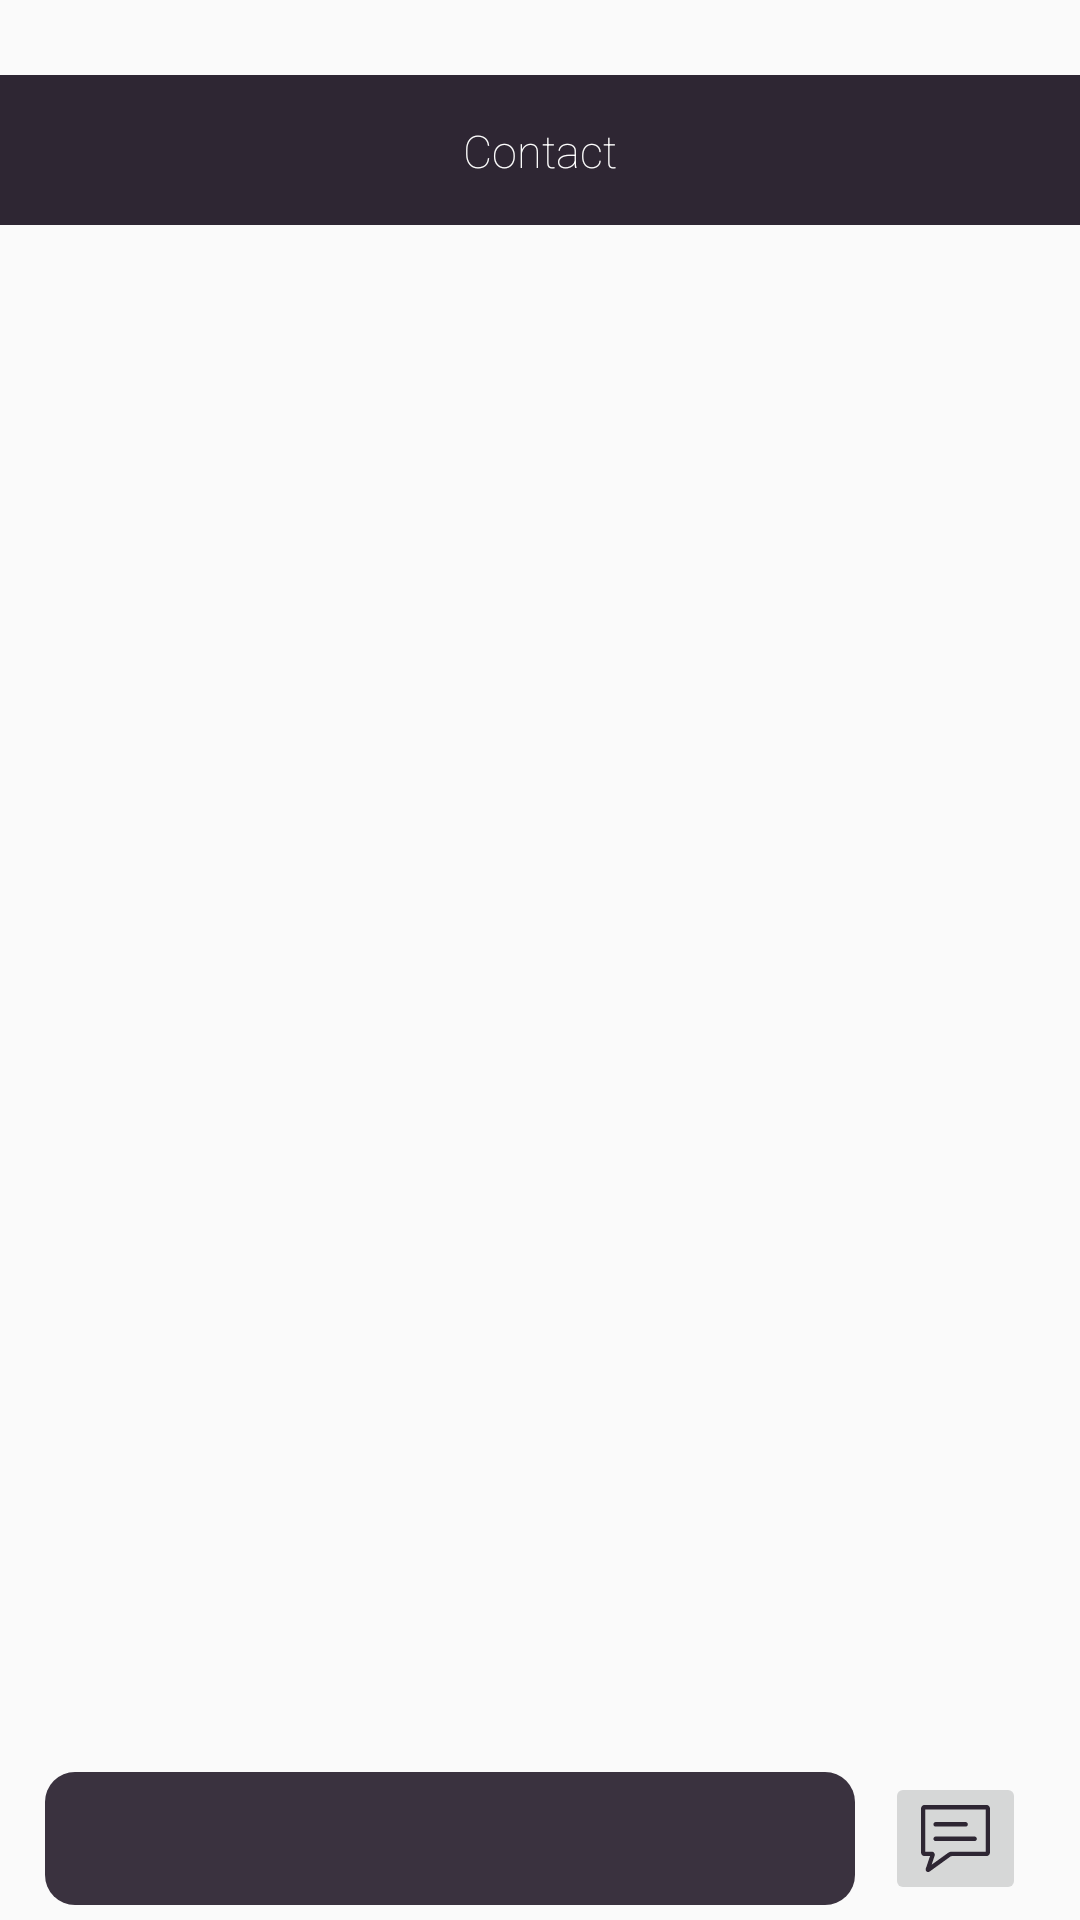

Where to tap for icons on this 1080px×1920px app screen, as [x,y]:
chatbubble: [955,1838]
